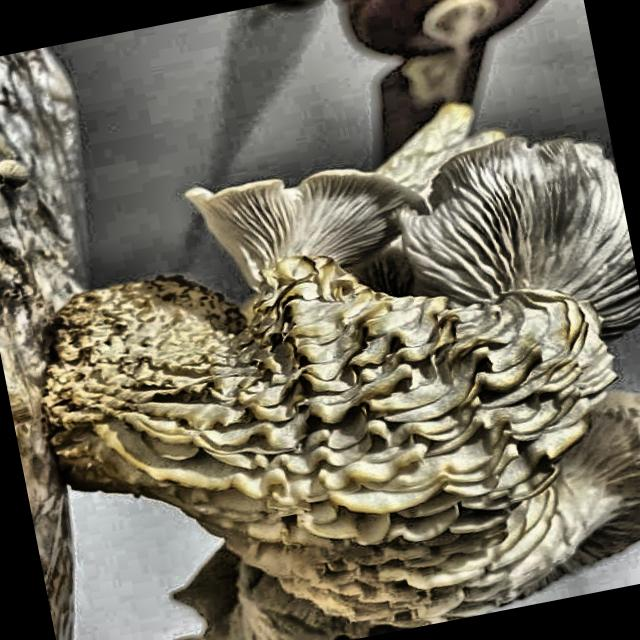Healthy: (211, 74, 640, 365), (278, 445, 640, 640)
